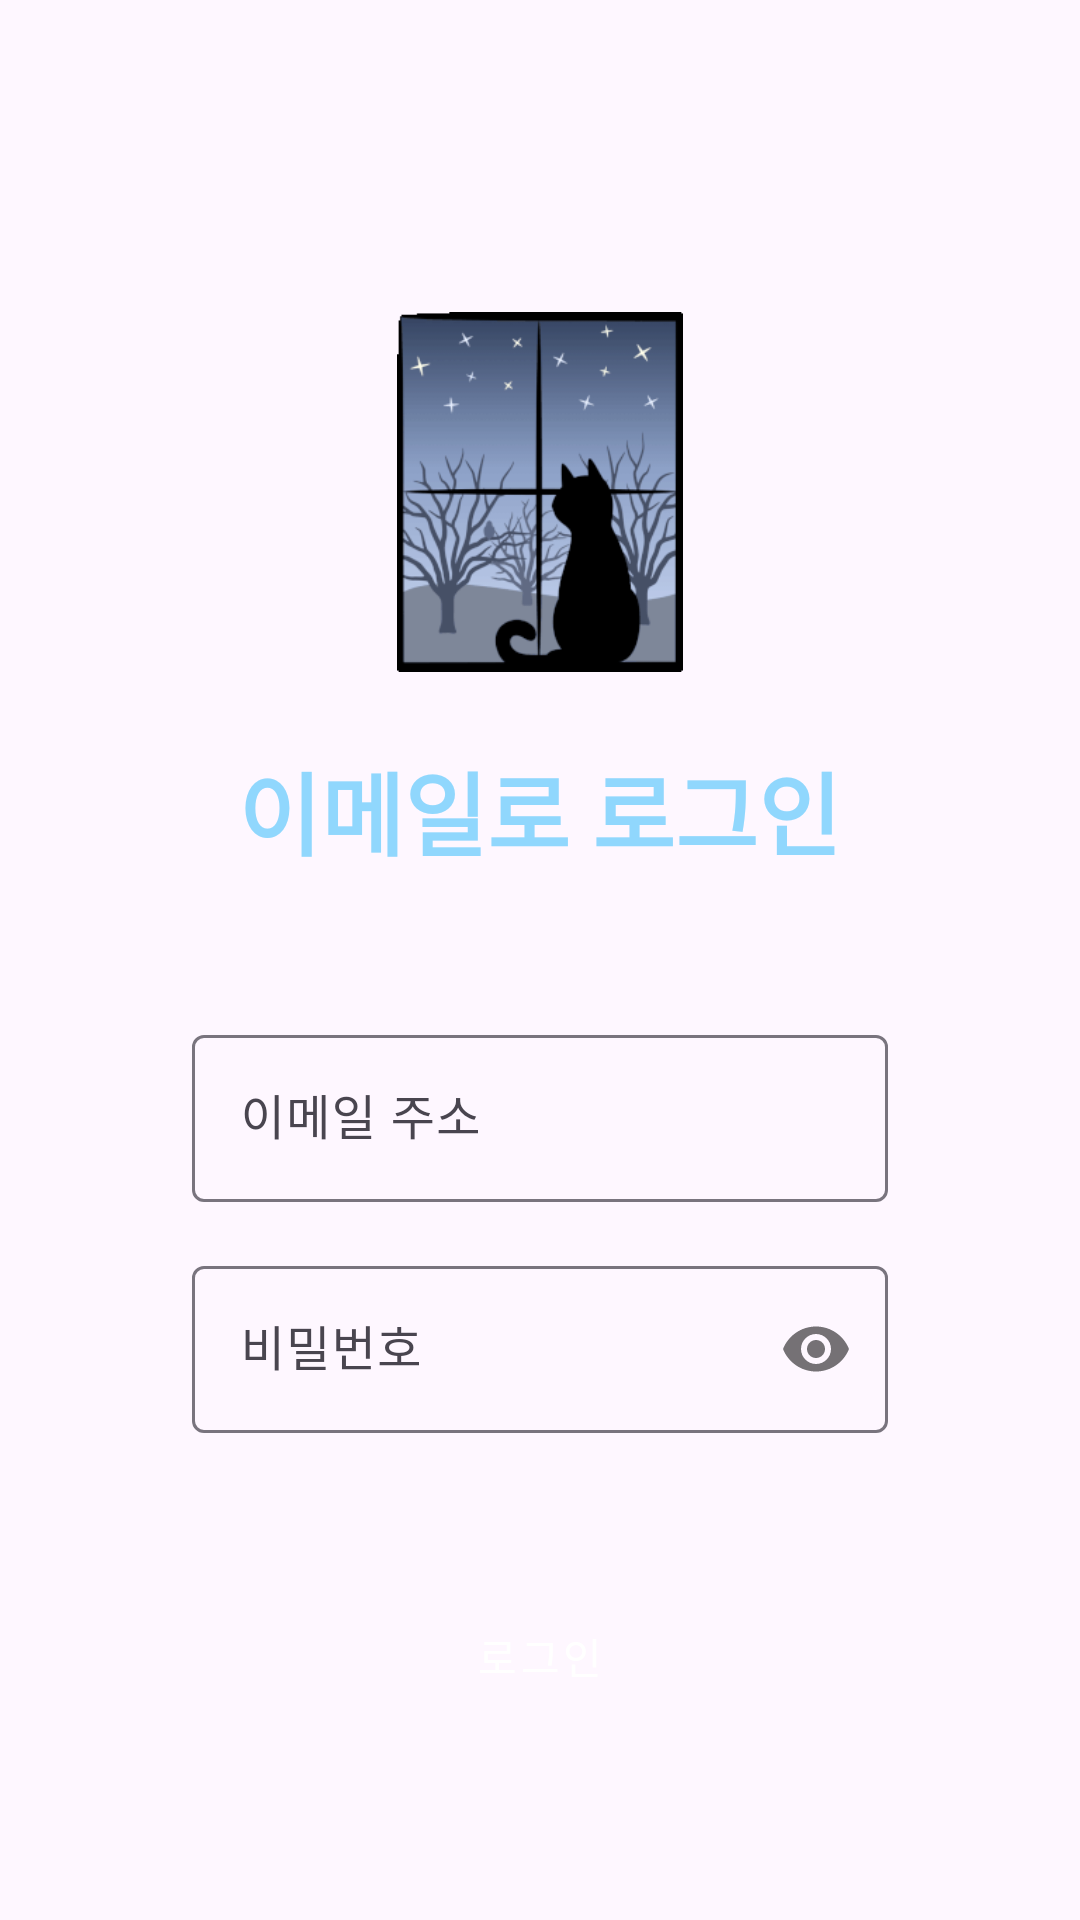

Locate icon controls on the screen. Image size 1080x1920, boxes as (x1,y1,x2,y2).
cat: (397,312,683,672)
